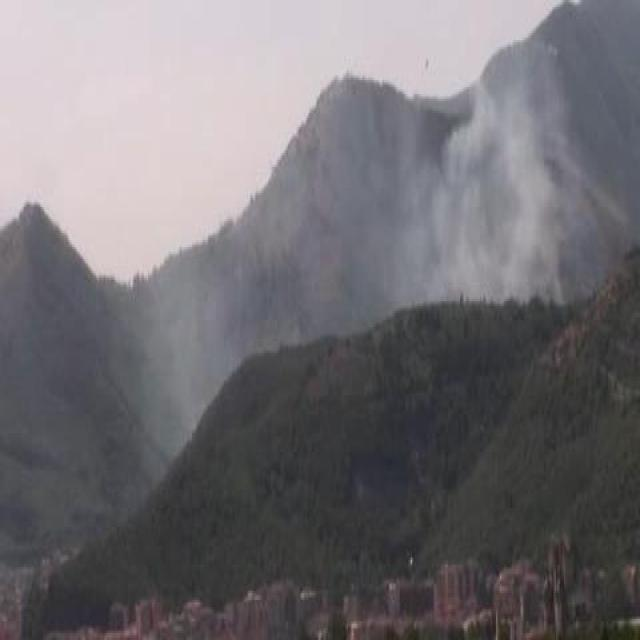Smoke: (402, 80, 570, 299)
